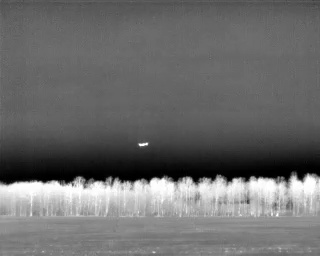DRONE: (134, 137, 153, 153)
